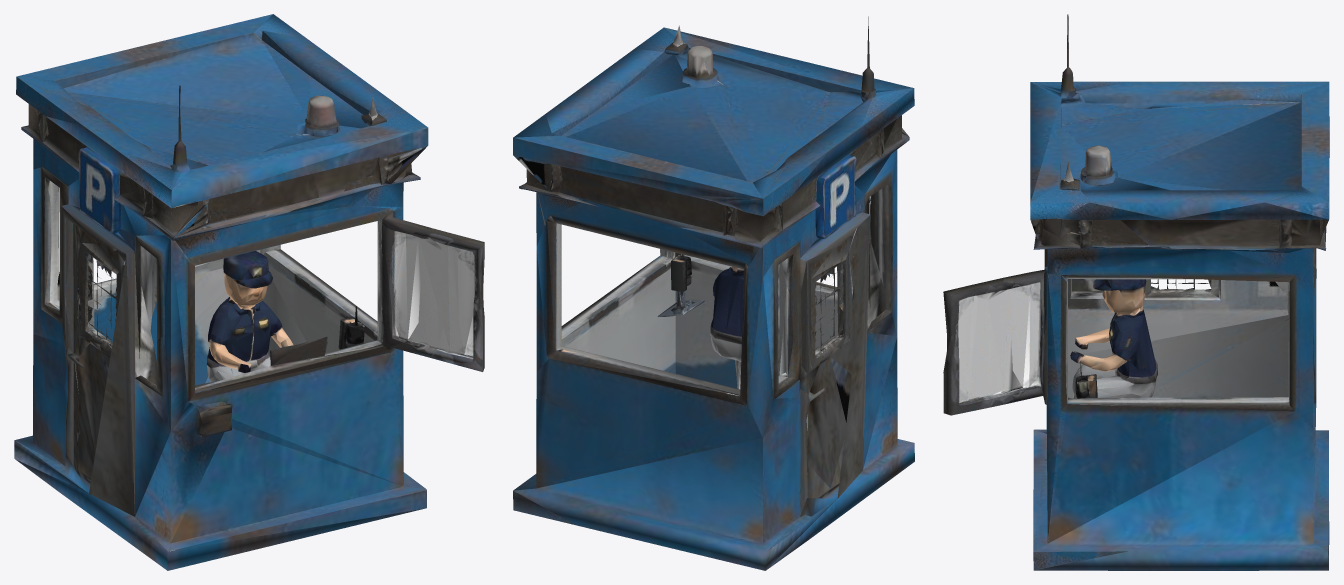
The model's file is cabine_estac.glb.
3 views of the same model, side by side, from view 1: azimuth 30°, elevation 25°; view 2: azimuth 150°, elevation 25°; view 3: azimuth 270°, elevation 25° (orthographic). The views are drawn at different scales.
Visible parts, largest first — view 1: mascara; view 2: mascara; view 3: mascara.
Boxes of the visible parts, box(x1,y1,x2,y2) form: mascara: box(14, 14, 484, 570); mascara: box(513, 16, 914, 570); mascara: box(943, 14, 1329, 570).
Bounding box in the file's own units: 1.66 × 2.7 × 2.1.
1 material, 1 textured.
